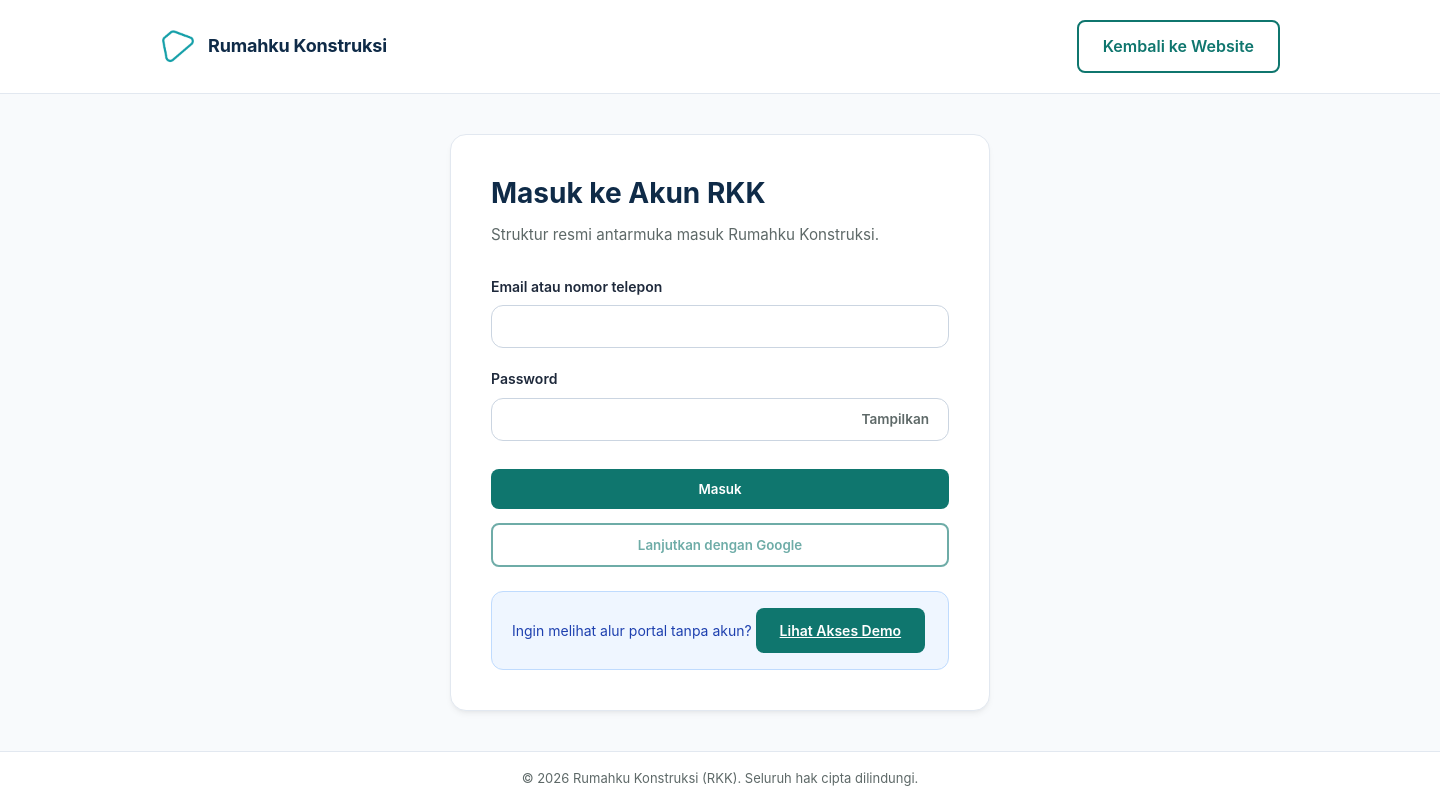
Test case: PLAN-009 Access Pages, Sign-in, Routing & Boundary Tests › /sign-in Official Sign-in Page › toggles password visibility when clicking Tampilkan/Sembunyikan button
Step 1. Click the button with aria-label "Tampilkan password" → (895, 419), box 854,407 -> 937,431
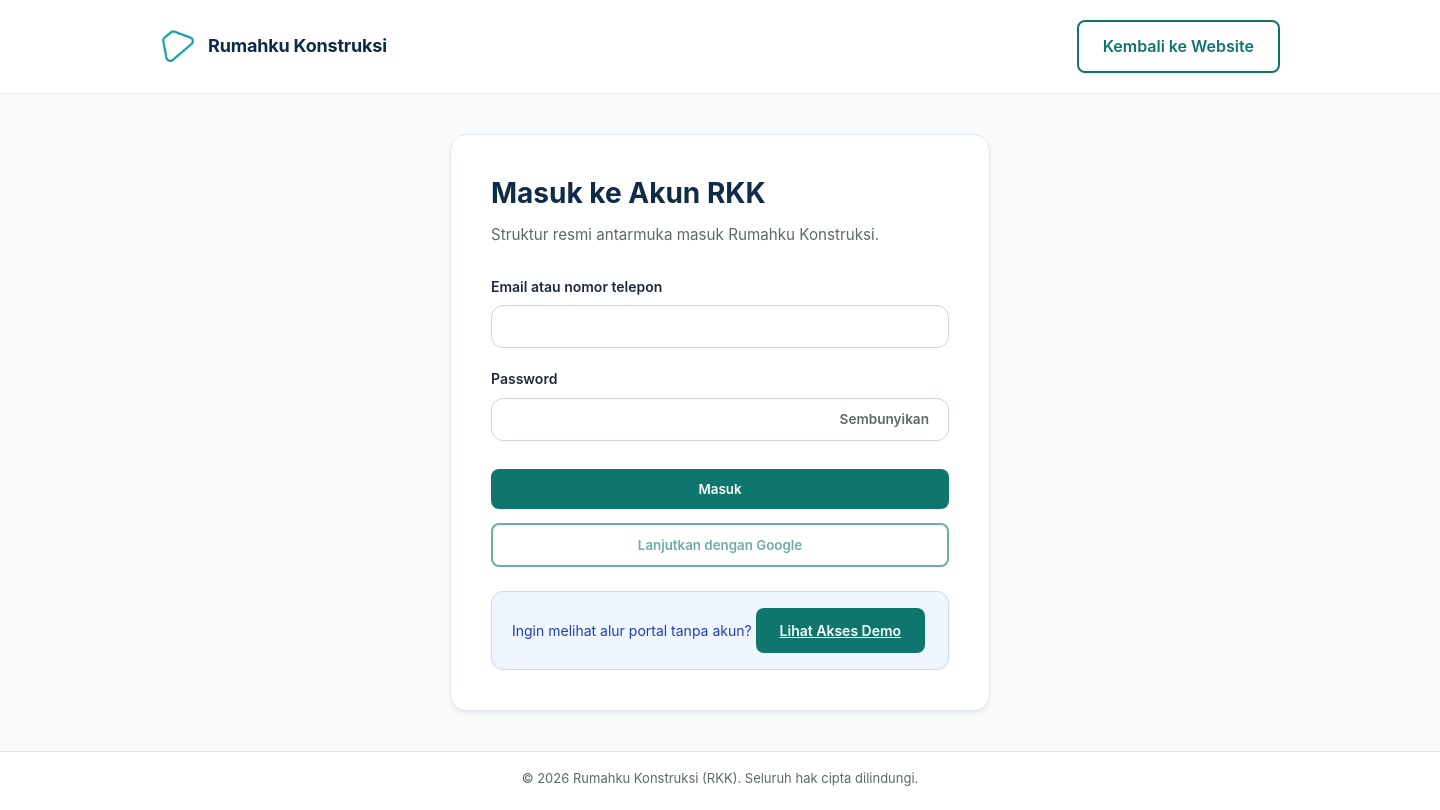
Result: the button with aria-label "Sembunyikan password" is shown at 832,407 -> 937,431
